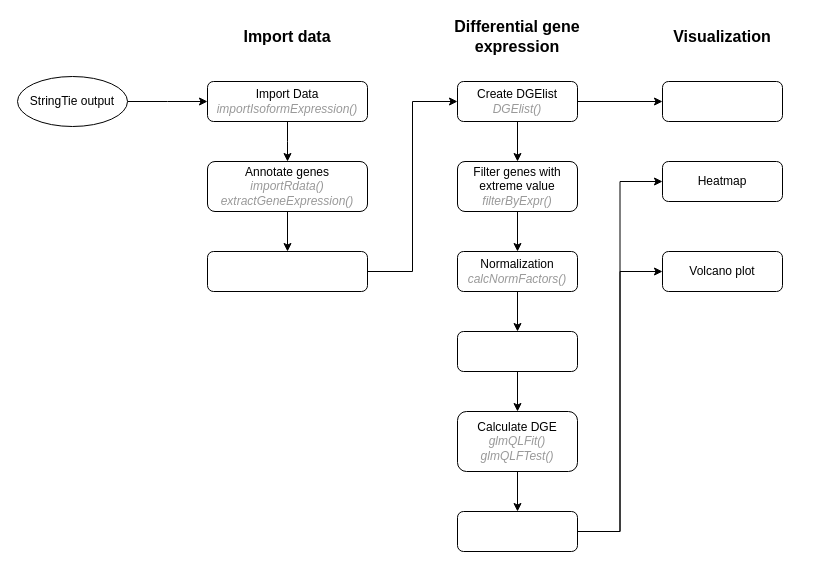
The diagram is 815 pixels wide and 569 high, and some of its shapes have lost their labels. Here are the shapes that lost their labels. From the top down, the centre of each, then its label:
(722,101): Principle Component Analysis
(287,271): Filter out unwanted genes
(517,351): Calculate dispersion estimateDisp()
(517,531): Extract result table topTags()
